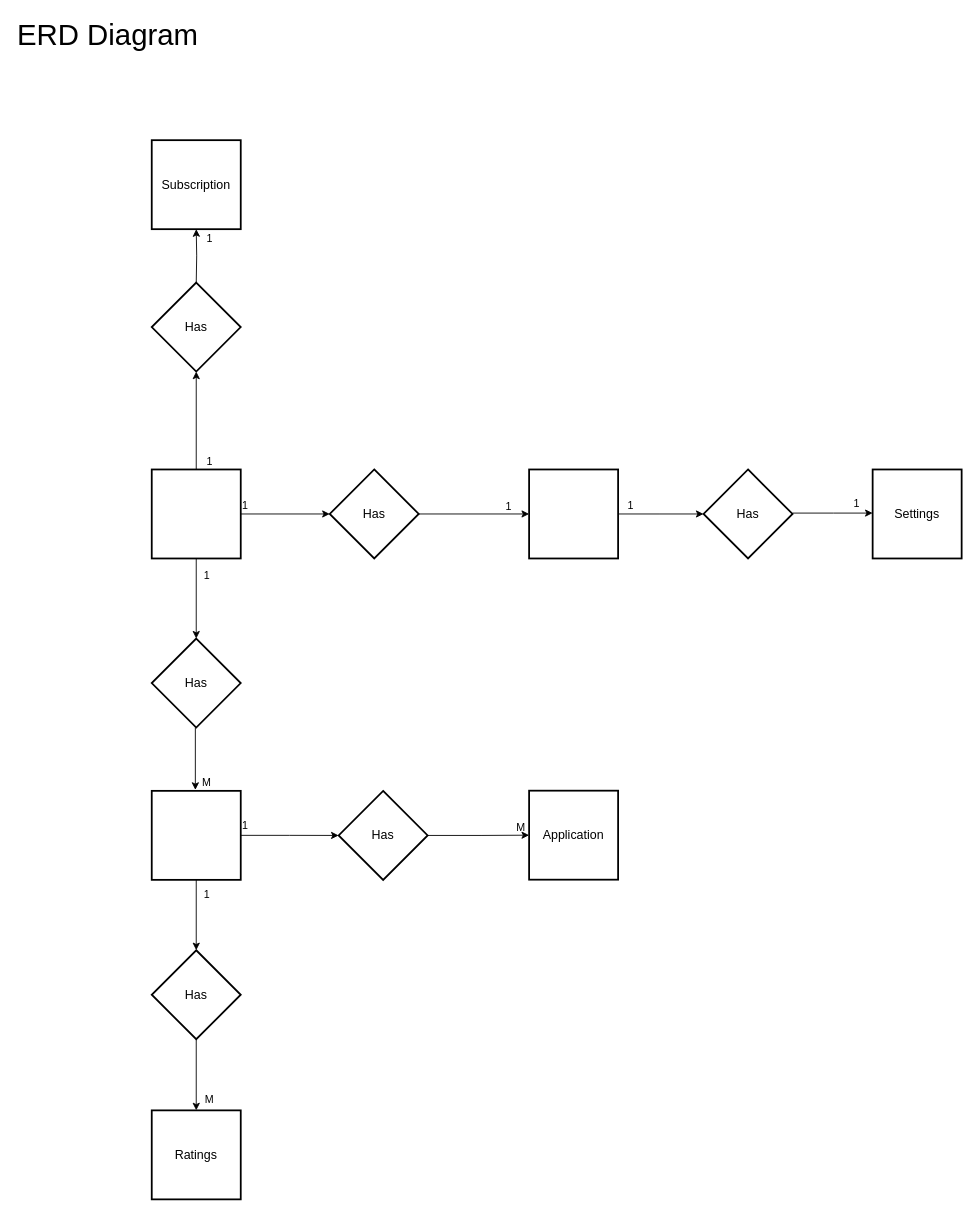
Some shapes in this 977 by 1216 pixel diagram are drawn without their labels. Here are the shapes that lost their labels. From the top down, the centre of each, then its label:
At point (195, 513): "User".
At point (573, 513): "Profile".
At point (195, 835): "Publication".
